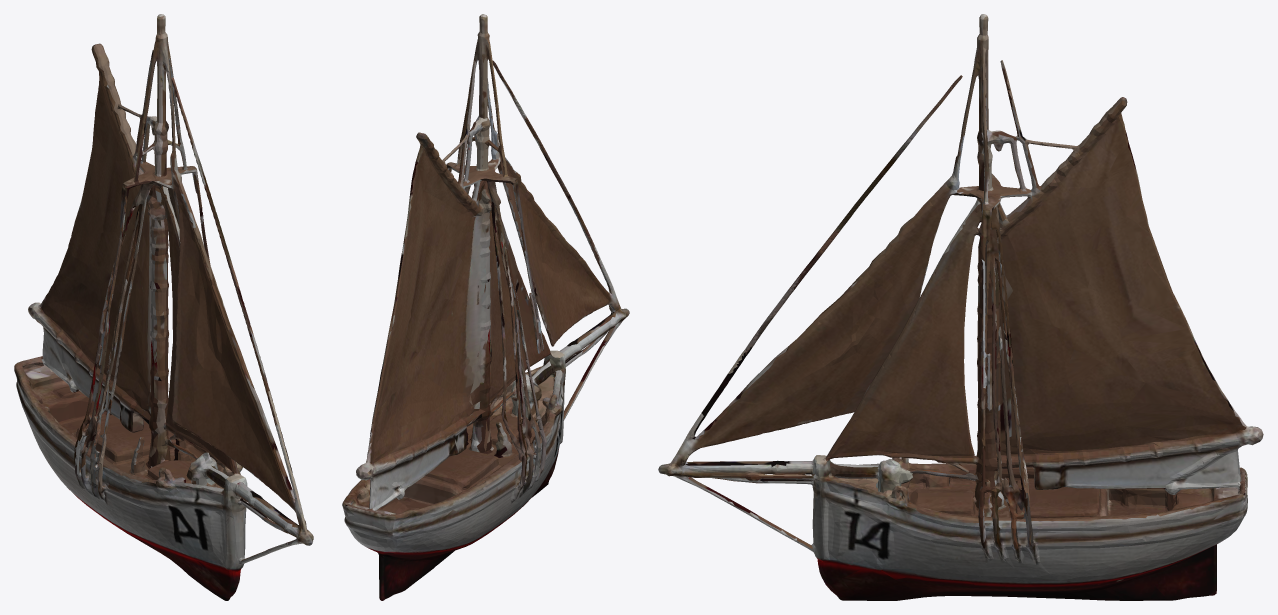
The model's file is pilot_cutter.glb.
3 views of the same model, side by side, from view 1: azimuth 30°, elevation 25°; view 2: azimuth 150°, elevation 25°; view 3: azimuth 270°, elevation 25° (orthographic). The views are drawn at different scales.
Parts seen in each view (by area): view 1: HullBody; view 2: HullBody; view 3: HullBody.
Part boxes in pixels (x1,y1,x2,y2): HullBody: [14, 14, 313, 600]; HullBody: [342, 14, 629, 600]; HullBody: [658, 14, 1263, 600].
Size of the model in its own units: 4.94 by 19.22 by 18.
1 material, 1 textured.
